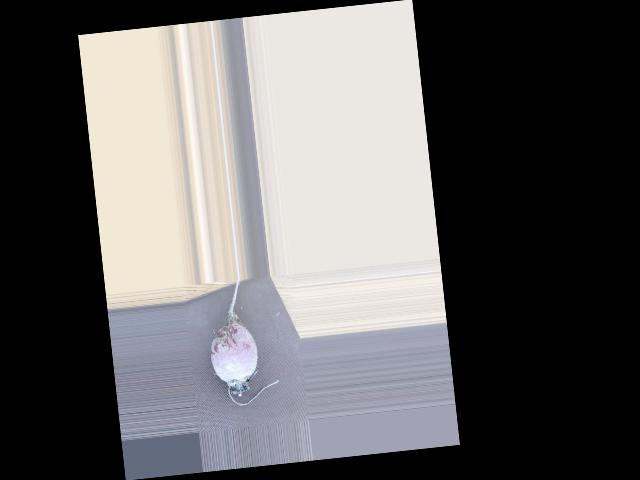beet: (202, 275, 281, 408)
